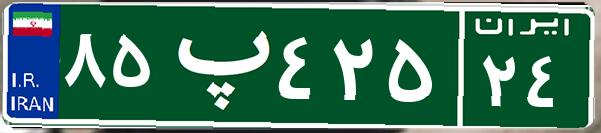2: (330, 28, 385, 110), (475, 38, 525, 113)
4: (273, 28, 330, 110), (525, 38, 570, 115)
5: (385, 28, 445, 110), (110, 28, 158, 105)
8: (57, 26, 110, 107)
پ: (158, 15, 273, 115)
